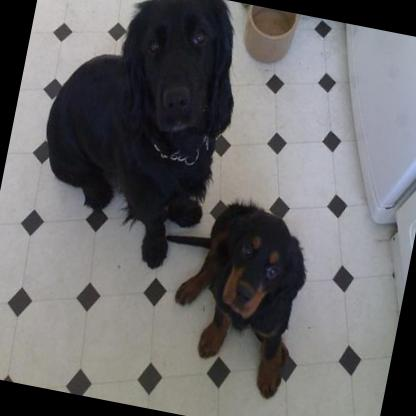Gordon_setter: (23, 0, 252, 275), (157, 186, 318, 402)
